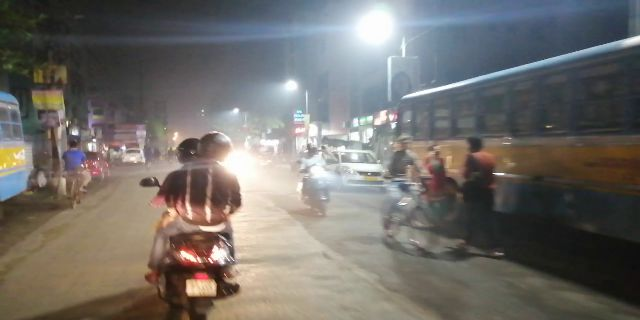Bus: (385, 42, 640, 244)
Car: (335, 145, 385, 194)
Motorbike: (151, 134, 245, 310), (295, 144, 336, 224)
